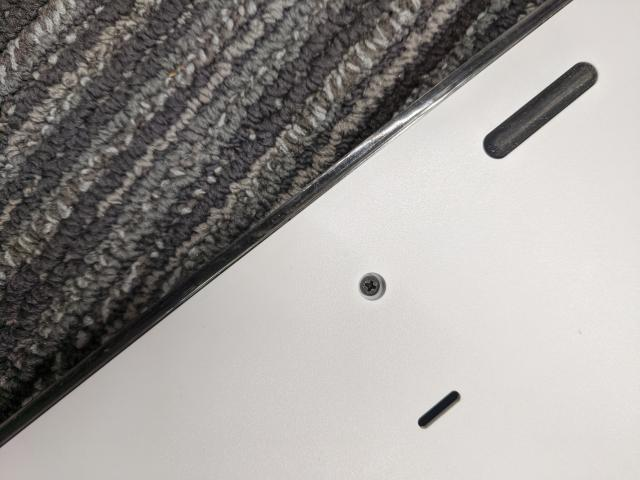CRS: (359, 273, 384, 298)
